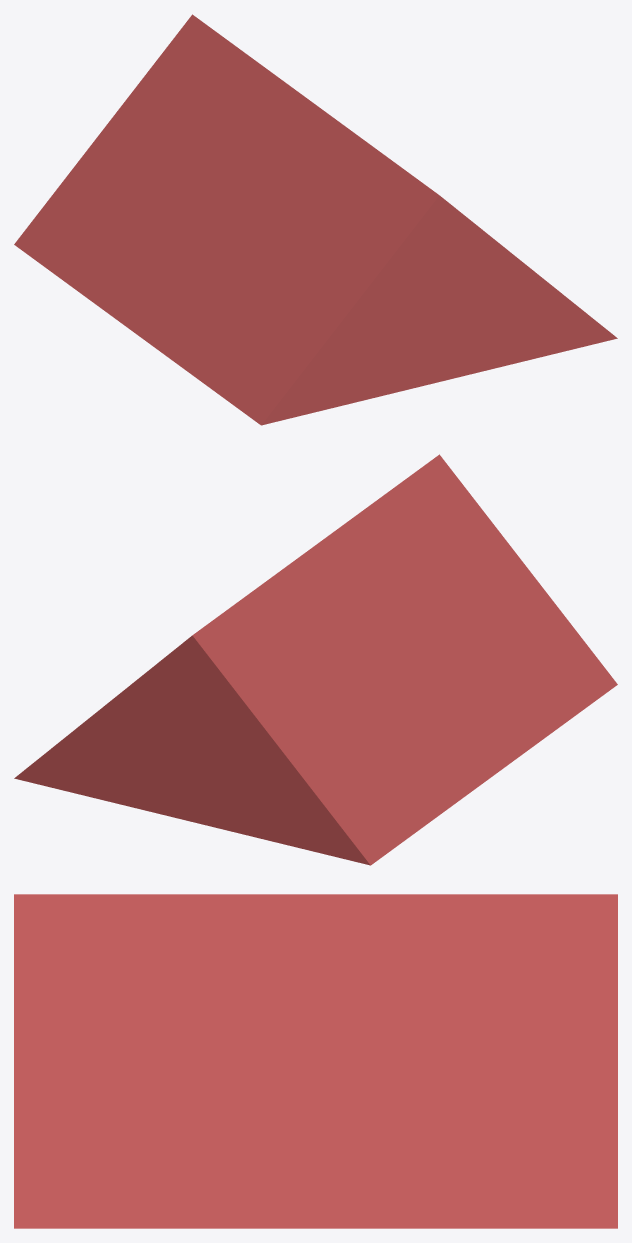
The model's file is sl_ice_brock.glb.
The picture shows the model from 3 angles, top to bottom: view 1: azimuth 30°, elevation 25°; view 2: azimuth 150°, elevation 25°; view 3: azimuth 270°, elevation 25°; orthographic projection. The views are drawn at different scales.
Parts seen in each view (by area): view 1: sl_ice_brock_col; view 2: sl_ice_brock_col; view 3: sl_ice_brock_col.
Part boxes in pixels (left/top/right/bottom): sl_ice_brock_col: left=14, top=14, right=617, bottom=425; sl_ice_brock_col: left=14, top=454, right=617, bottom=865; sl_ice_brock_col: left=14, top=894, right=617, bottom=1228.
Bounding box in the file's own units: 0.4 × 0.2 × 0.4801.
